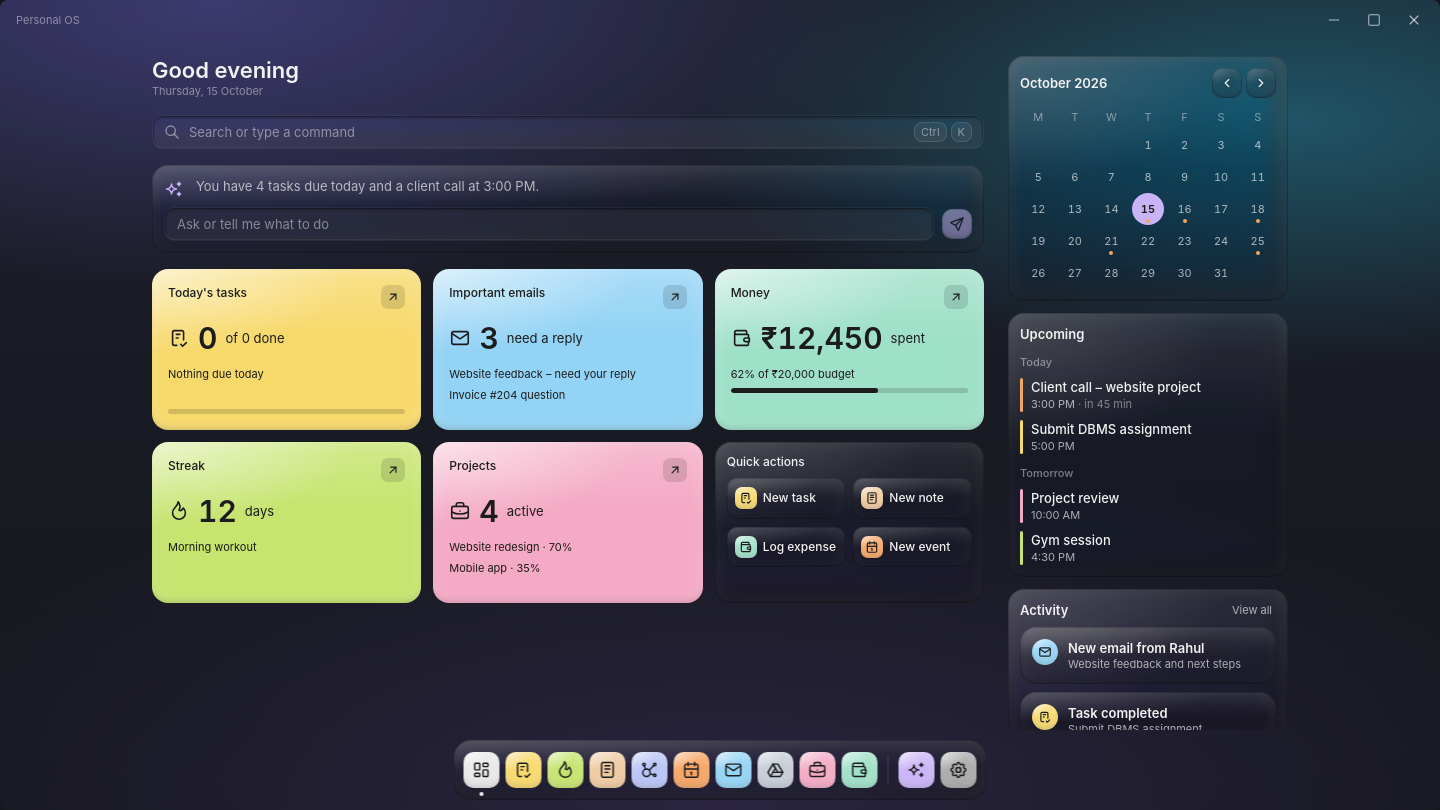
Test case: navigation with the dock › opens a module page and moves the active dot
Click the button named "Mail" at (734, 770), box [716, 752, 752, 788]
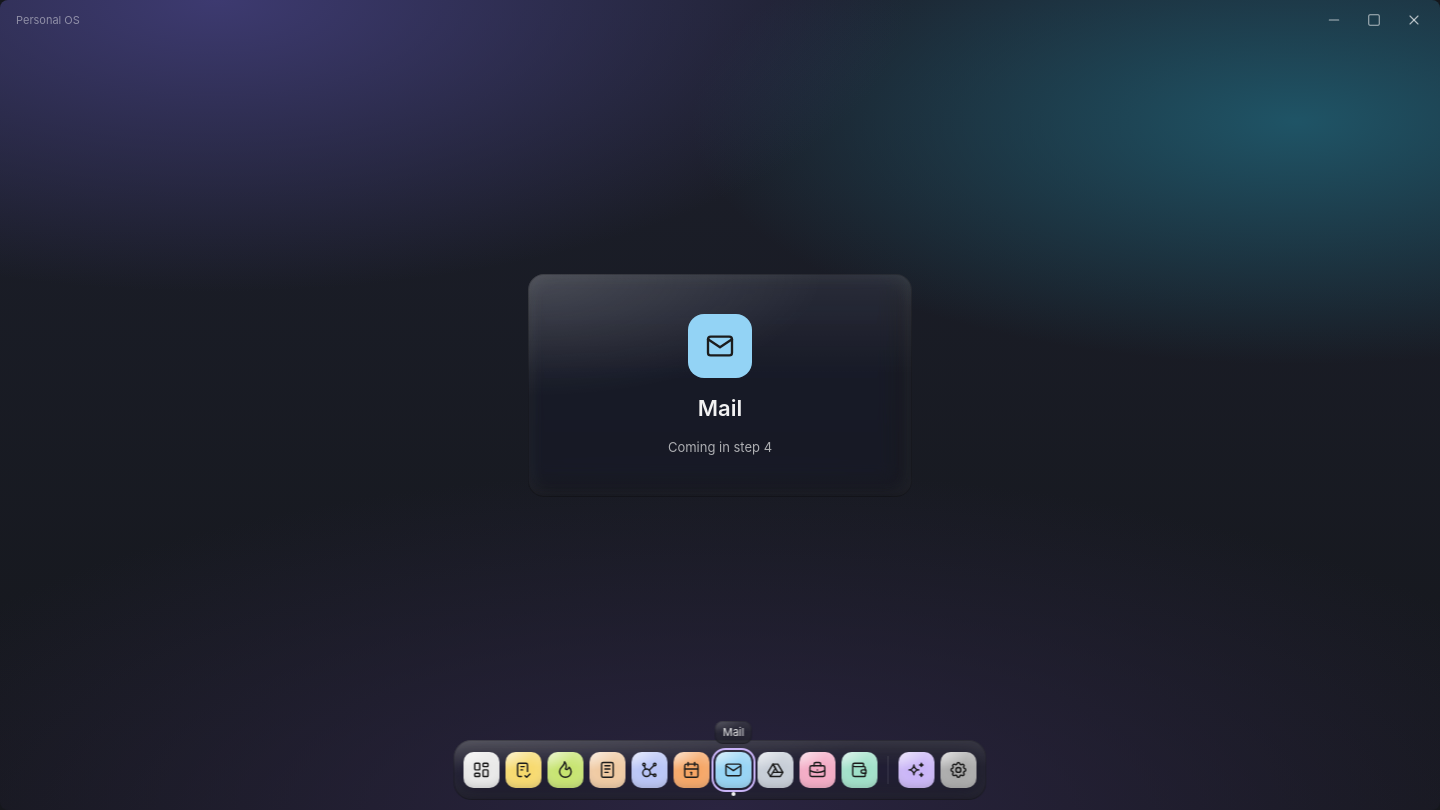
Expected: the number of elements with test id "active-dot" is 1, [732, 792, 736, 796]
Now the heading "Mail" is shown, box [698, 394, 742, 422]
